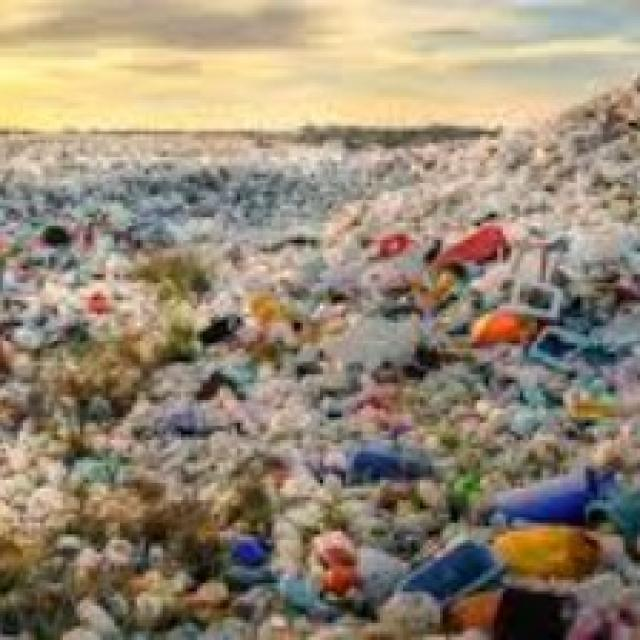heap: (268, 400, 458, 477), (318, 294, 467, 385), (3, 435, 81, 534), (469, 155, 551, 210), (216, 266, 298, 315)
plastic_bag: (284, 448, 317, 479)
